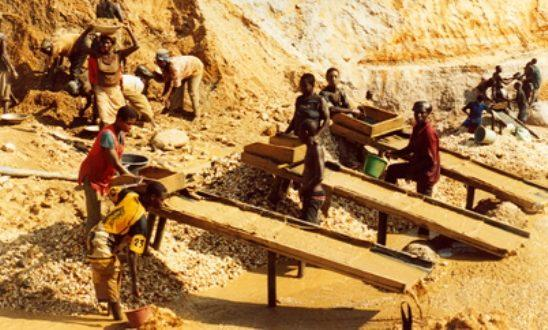MiningTool: (362, 152, 387, 180), (87, 18, 128, 32), (475, 128, 496, 144), (1, 113, 30, 124), (121, 154, 149, 165)
Person: (87, 179, 167, 326), (77, 103, 136, 255), (383, 101, 442, 238), (79, 26, 140, 132), (284, 120, 328, 225), (282, 72, 330, 157), (153, 49, 205, 121), (36, 36, 89, 82), (315, 68, 362, 118), (64, 81, 99, 122), (133, 65, 169, 97), (461, 96, 485, 130), (511, 82, 530, 122), (488, 63, 510, 93), (525, 58, 543, 87), (526, 65, 535, 103)
ProcessingEquipment: (137, 163, 434, 308), (242, 127, 532, 270), (330, 93, 548, 219), (483, 92, 540, 145)
